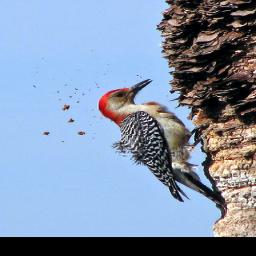Woodpecker: (96, 78, 229, 210)
